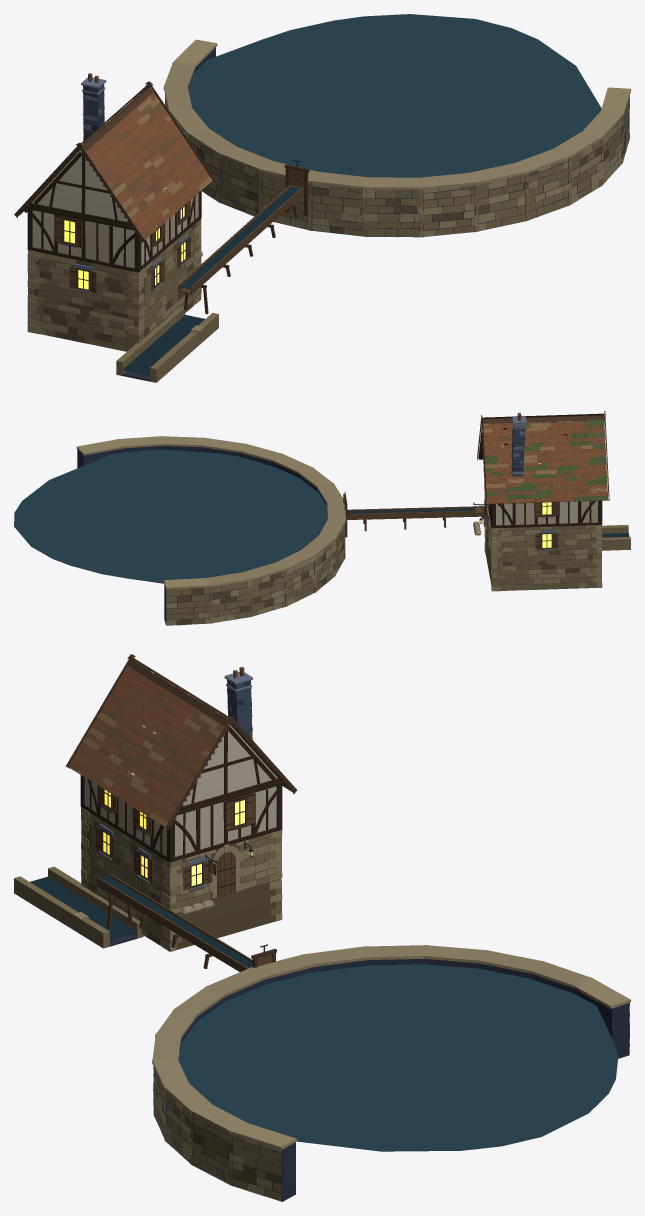
File: watermill.glb
3 renders of one model, top to bottom at view 1: azimuth 30°, elevation 25°; view 2: azimuth 150°, elevation 25°; view 3: azimuth 270°, elevation 25°, orthographic. The views are drawn at different scales.
Visible parts, largest first — view 1: isl_watermill; view 2: isl_watermill; view 3: isl_watermill.
Boxes of the visible parts, x1=… form: isl_watermill: x1=14, y1=14, x2=630, y2=382; isl_watermill: x1=14, y1=411, x2=630, y2=625; isl_watermill: x1=14, y1=654, x2=630, y2=1201.
Size of the model in its own units: 37.21 by 12.13 by 27.65.
